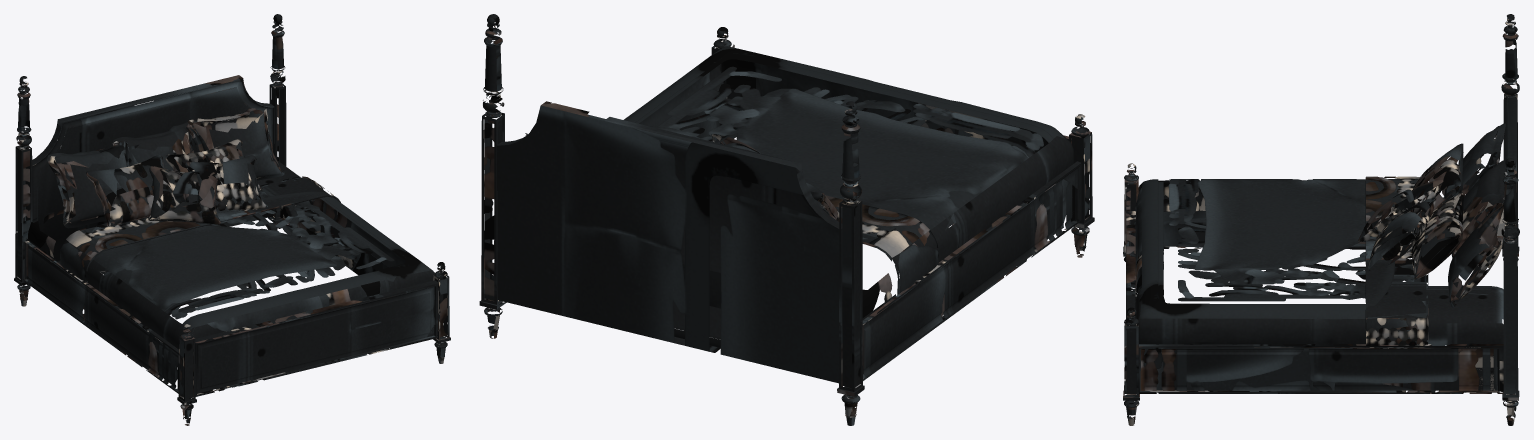
File: raw_model.obj
3 renders of one model, left to right at view 1: azimuth 30°, elevation 25°; view 2: azimuth 150°, elevation 25°; view 3: azimuth 270°, elevation 25°, orthographic. The views are drawn at different scales.
Parts seen in each view (by area): view 1: solid_006, solid_003, solid_001, solid_004, solid_005, solid_002; view 2: solid_006, solid_003, solid_002; view 3: solid_003, solid_006, solid_001, solid_005, solid_002, solid_004.
Part boxes in pixels (left/top/right/bottom): solid_006: left=14, top=14, right=450, bottom=420; solid_003: left=60, top=176, right=435, bottom=349; solid_001: left=47, top=105, right=284, bottom=228; solid_004: left=148, top=155, right=267, bottom=224; solid_005: left=86, top=139, right=262, bottom=226; solid_002: left=28, top=161, right=314, bottom=257; solid_006: left=479, top=14, right=1094, bottom=417; solid_003: left=624, top=47, right=1073, bottom=295; solid_002: left=682, top=264, right=892, bottom=317; solid_003: left=1134, top=176, right=1428, bottom=348; solid_006: left=1123, top=14, right=1519, bottom=419; solid_001: left=1444, top=123, right=1506, bottom=307; solid_005: left=1412, top=143, right=1463, bottom=279; solid_002: left=1426, top=186, right=1506, bottom=355; solid_004: left=1358, top=179, right=1443, bottom=270.
Bounding box in the file's own units: 2 × 1.64 × 2.21.
